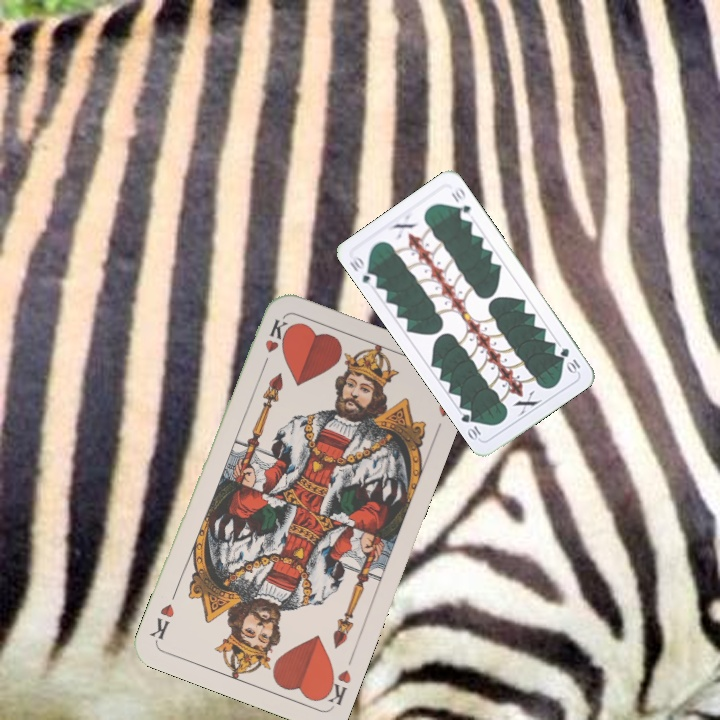G10: (345, 253, 380, 290), (556, 344, 583, 376)
HK: (258, 315, 291, 372), (318, 665, 354, 708)
